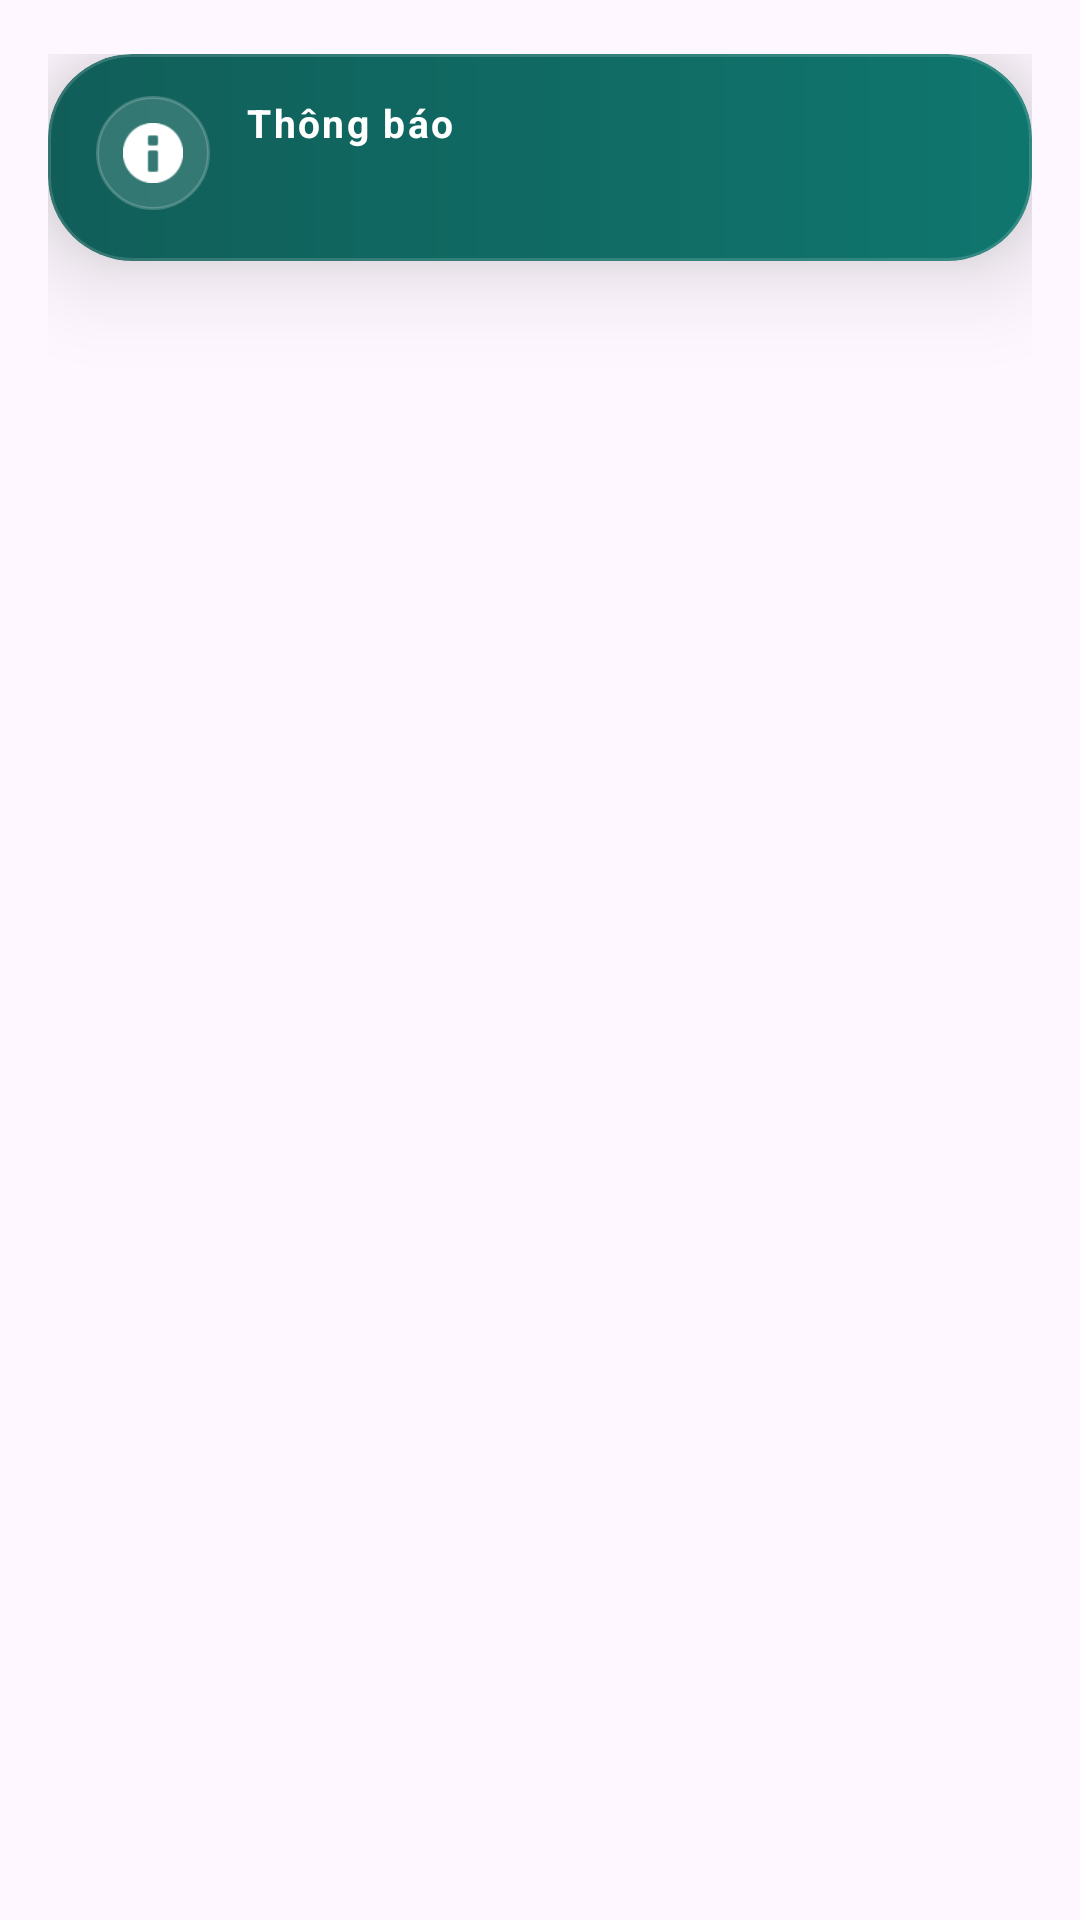

Point at icon controls on the screen. Image size 1080w x 1920h, points as (x,y).
info: (153,153)
